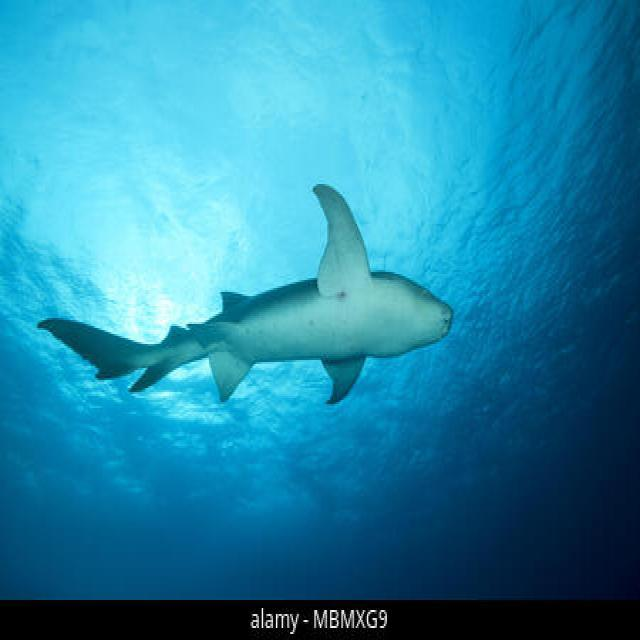Shark: (20, 158, 464, 428)
